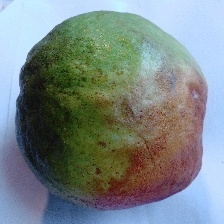guava: (1, 20, 198, 201)
